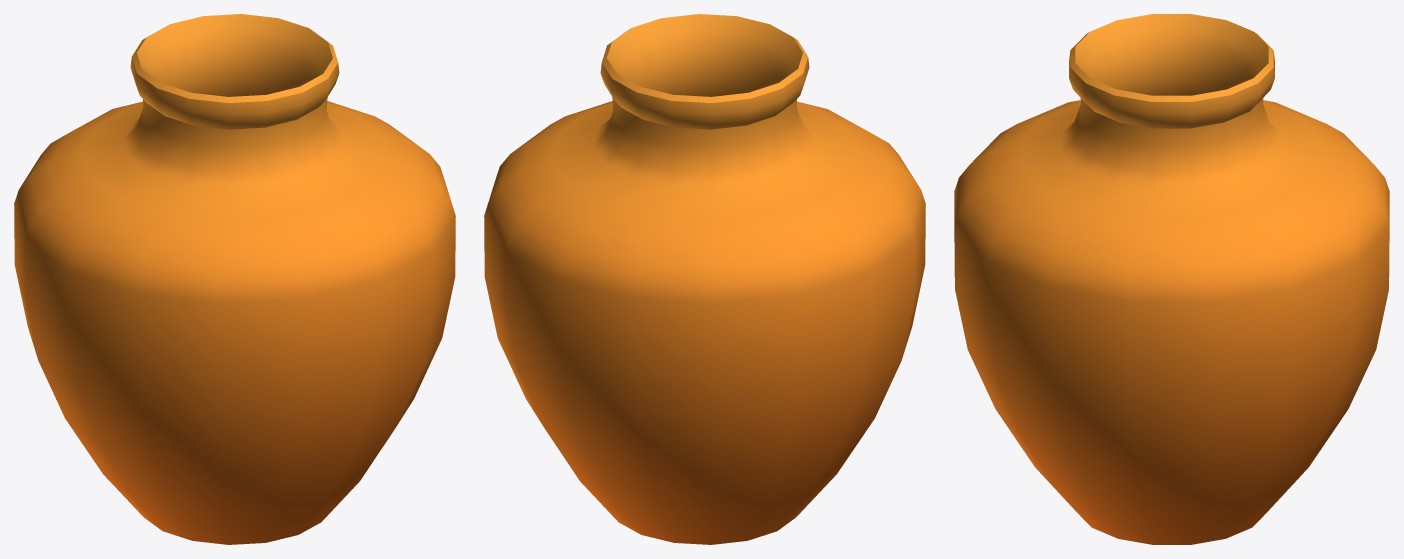
The model's file is Props_Pottery_Vessel_01.fbx.
3 renders of one model, left to right at view 1: azimuth 30°, elevation 25°; view 2: azimuth 150°, elevation 25°; view 3: azimuth 270°, elevation 25°, orthographic.
Parts seen in each view (by area): view 1: Props_Pottery_Vessel_01; view 2: Props_Pottery_Vessel_01; view 3: Props_Pottery_Vessel_01.
Part boxes in pixels (x1,y1,x2,y2): Props_Pottery_Vessel_01: [14, 14, 455, 544]; Props_Pottery_Vessel_01: [484, 14, 925, 544]; Props_Pottery_Vessel_01: [954, 14, 1389, 544].
Bounding box in the file's own units: 90.15 × 103 × 90.15.
